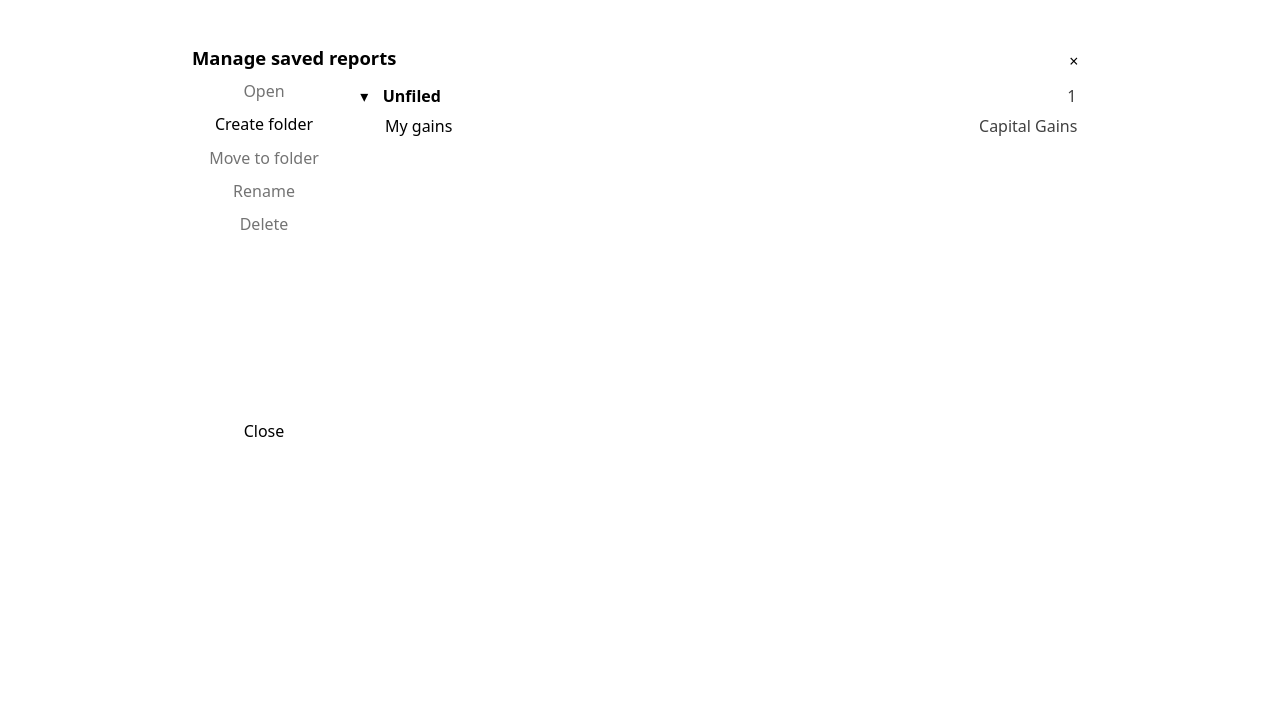
Test: Manage Saved Reports (RPT-020) › lists reports under their folder toggles, which close and open
Expected: the button "My gains Capital Gains" is shown, [378,112,1085,141]
Click the button named "Close Unfiled" at (364, 96), box [353,82,375,111]
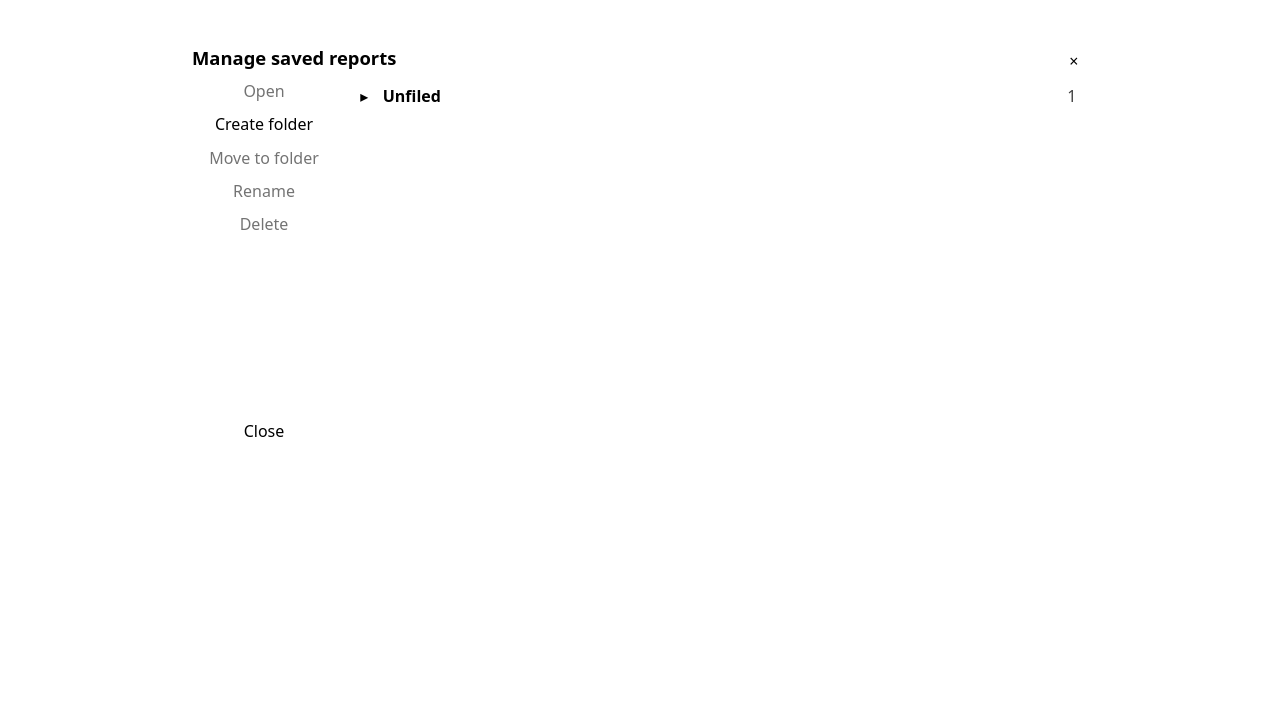
Now the button "My gains" is gone
Click the button named "Open Unfiled" at (364, 96), box [353,82,375,111]
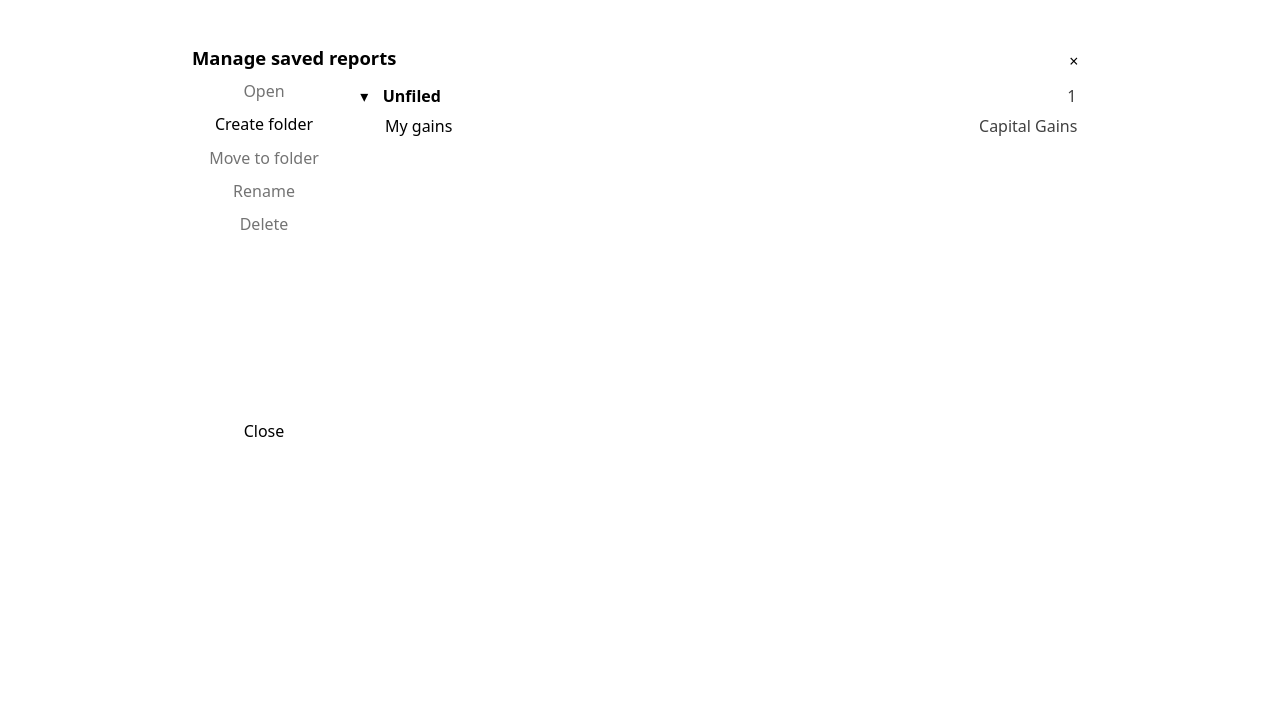
Now the button "My gains Capital Gains" is shown, box [378,112,1085,141]
